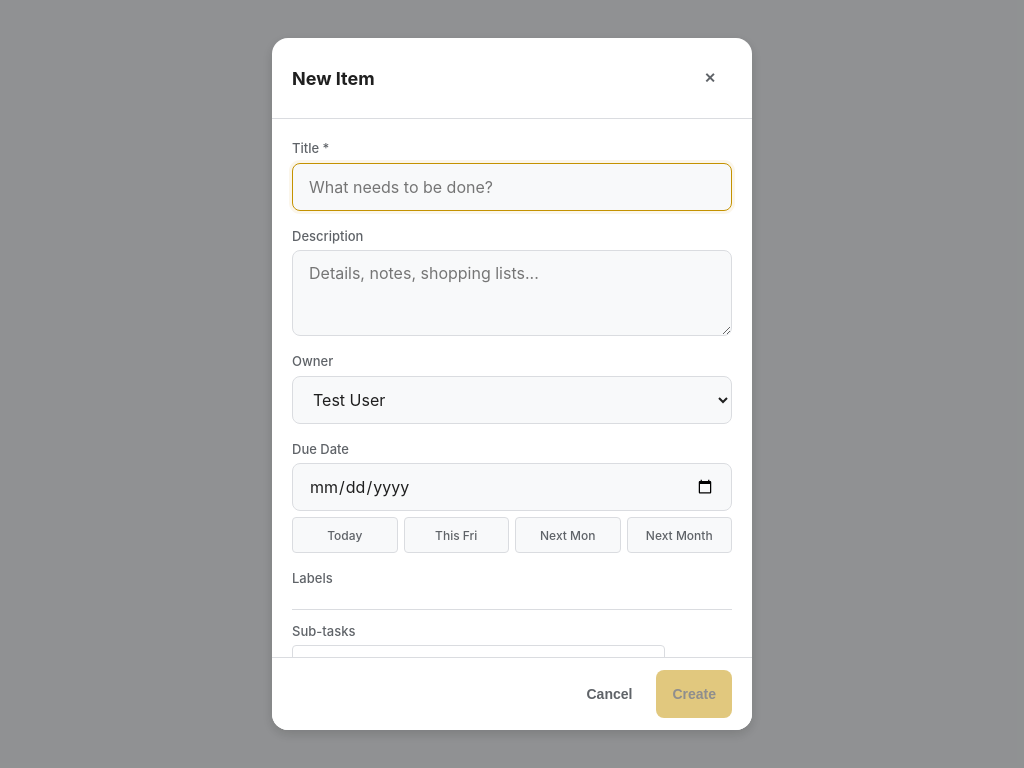
CreateItemModal clear date button (Issue #207) › AC6: clicking clear removes the date
The width and height of the screenshot is (1024, 768).
Step 1. Type "2026-04-10" into the date field with id "due-date" → x=512, y=487, box [292,463,732,511]
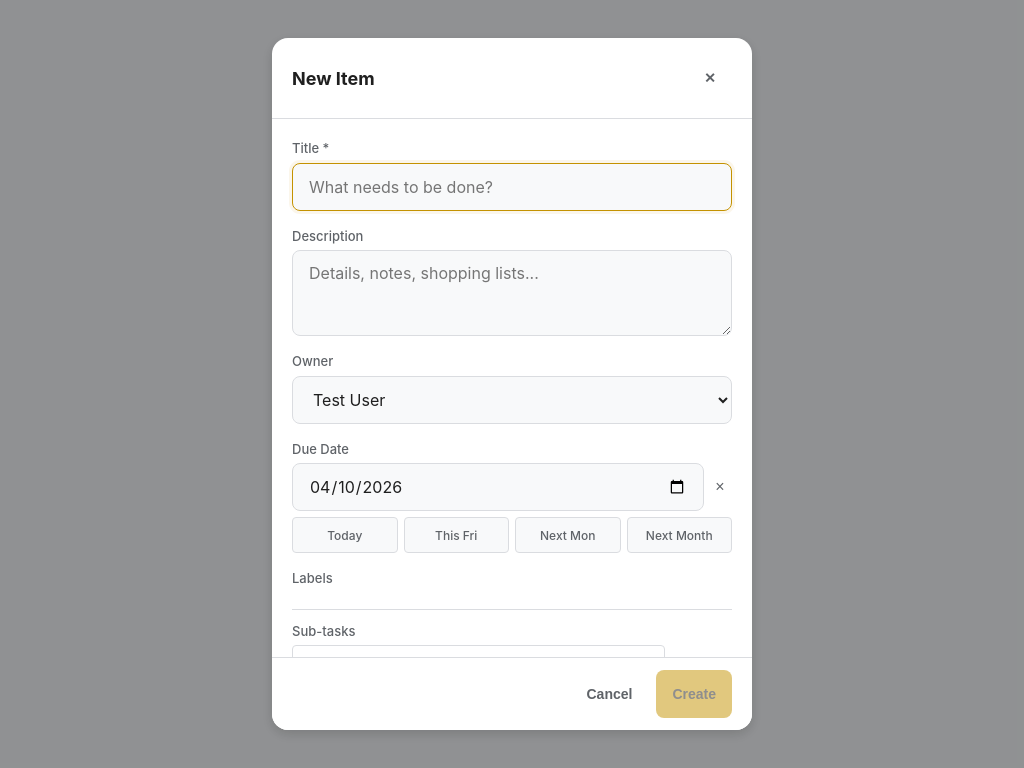
Step 2. Click the button named "Clear due date" → x=720, y=487, box [708,475,732,499]
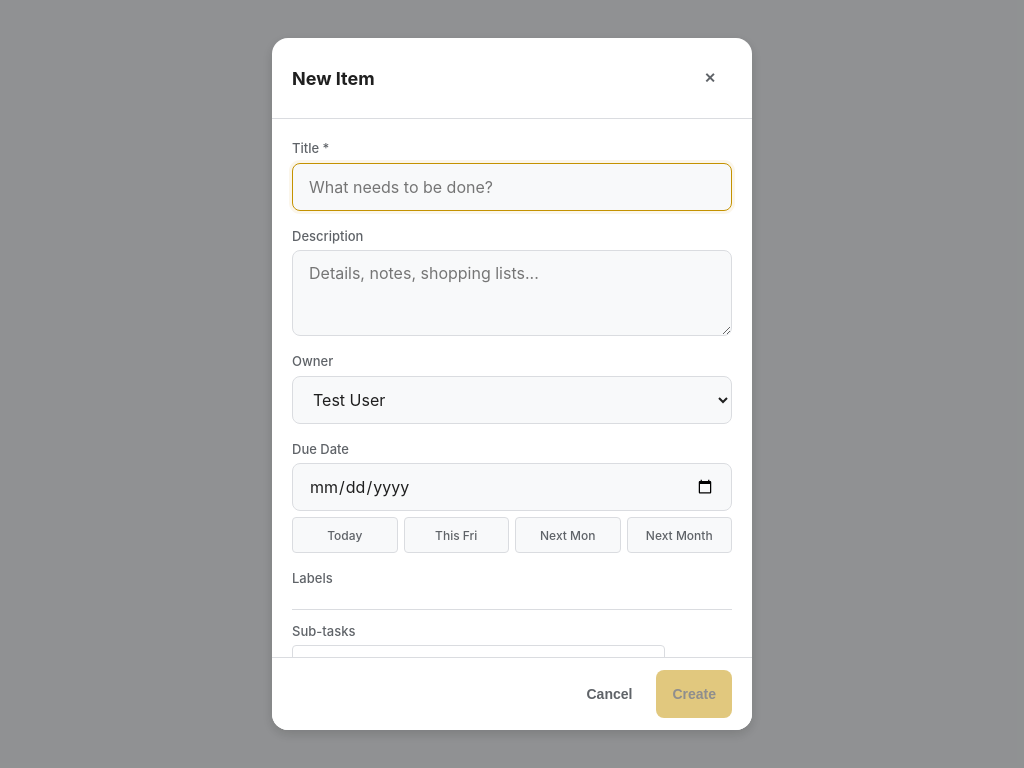
Now the date field with id "due-date" is empty, box [292,463,732,511]
